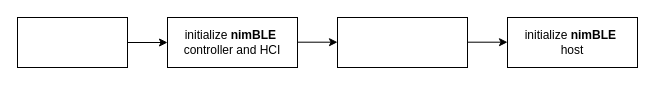
The diagram is 655 pixels wide and 85 high, and some of its shapes have lost their labels. Each missing label, with the centre of its shape:
allocate memory pool for receive and transmit buffers: the point at 402,42
setup and mount SPIFFS: the point at 72,42
